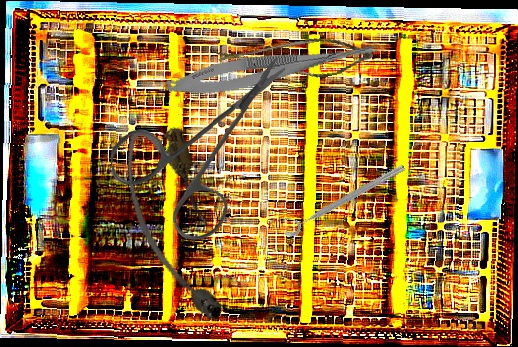Cannula: (113, 119, 236, 332)
Fixation Ring: (277, 154, 408, 240)
Iris Scissors: (107, 56, 292, 245)
Micro Scissor: (163, 26, 392, 105), (213, 20, 376, 99)
